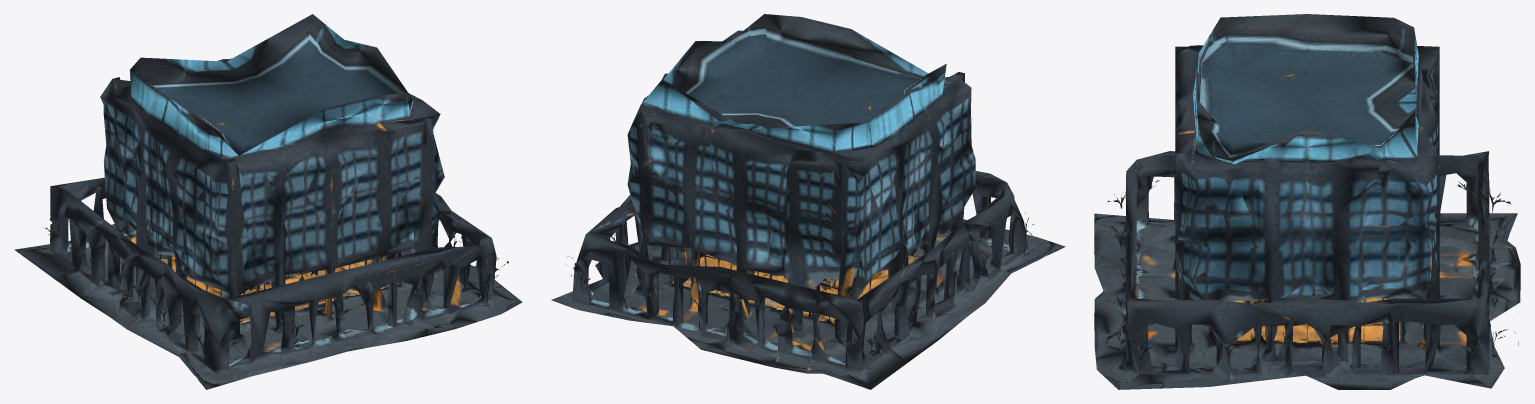
The model's file is co_lawfirm_p.glb.
3 renders of one model, left to right at view 1: azimuth 30°, elevation 25°; view 2: azimuth 150°, elevation 25°; view 3: azimuth 270°, elevation 25°, orthographic. The views are drawn at different scales.
Bounding box in the file's own units: 1.86 × 1.13 × 1.9.
Materials: 1 (1 with a texture image).
